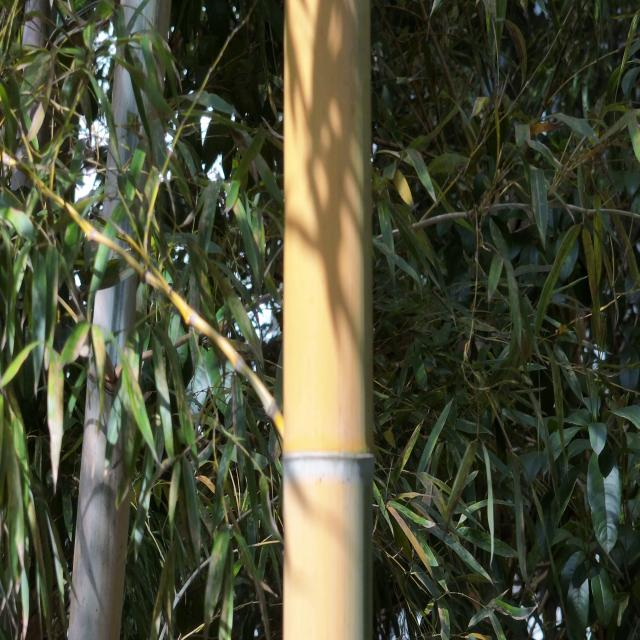Bamboo-shoots: (285, 0, 373, 640)
